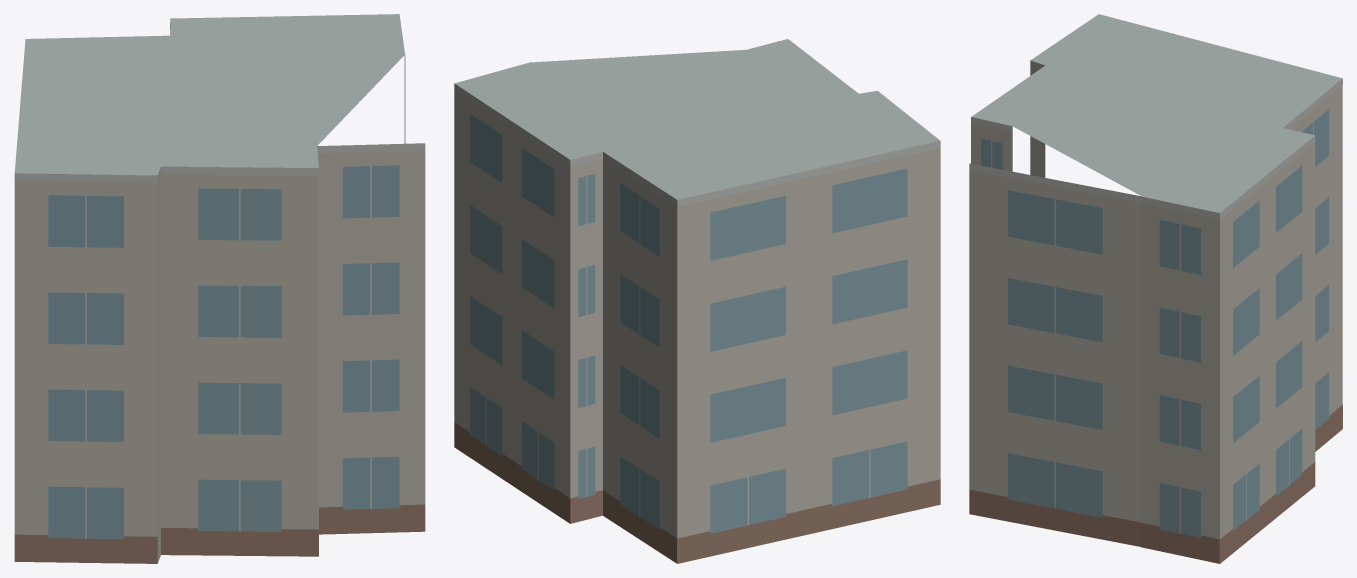
Rendered from survey-upis-32516248.glb.
The picture shows the model from 3 angles, left to right: view 1: azimuth 30°, elevation 25°; view 2: azimuth 150°, elevation 25°; view 3: azimuth 270°, elevation 25°; orthographic projection. The views are drawn at different scales.
Parts seen in each view (by area): view 1: survey-upis-32516248.tmp; view 2: survey-upis-32516248.tmp; view 3: survey-upis-32516248.tmp.
Boxes of the visible parts, <box> form: survey-upis-32516248.tmp: <box>14,14,425,563</box>; survey-upis-32516248.tmp: <box>454,39,940,563</box>; survey-upis-32516248.tmp: <box>969,14,1342,563</box>.
Size of the model in its own units: 15.47 by 12.7 by 12.27.
